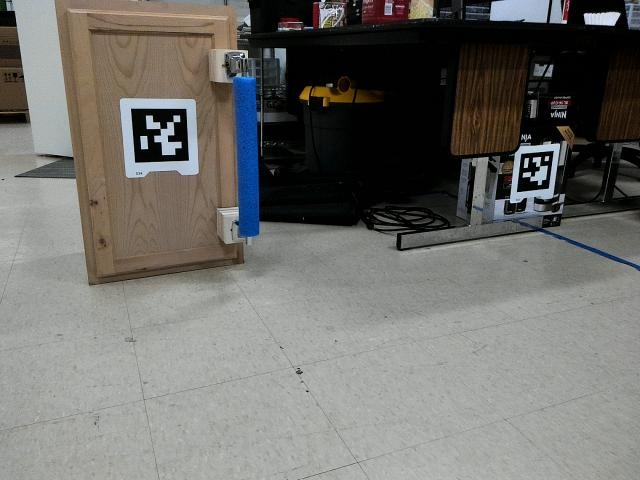noodle_handle: (226, 67, 262, 239)
